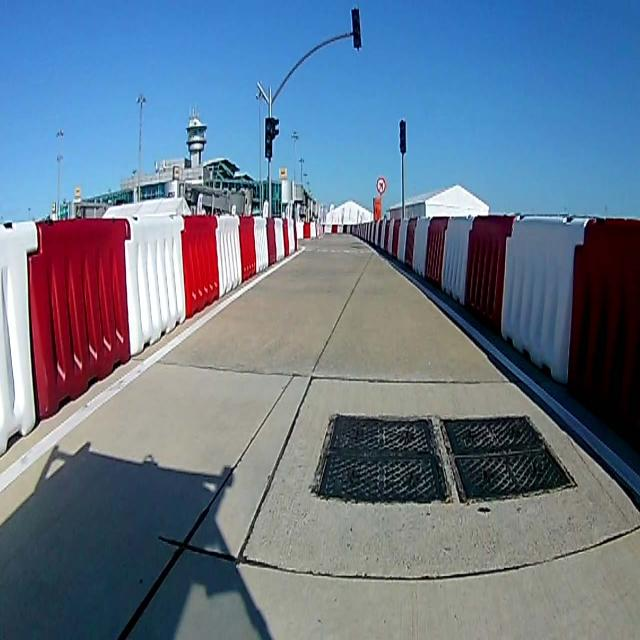soladonulmez: (376, 177, 386, 195)
